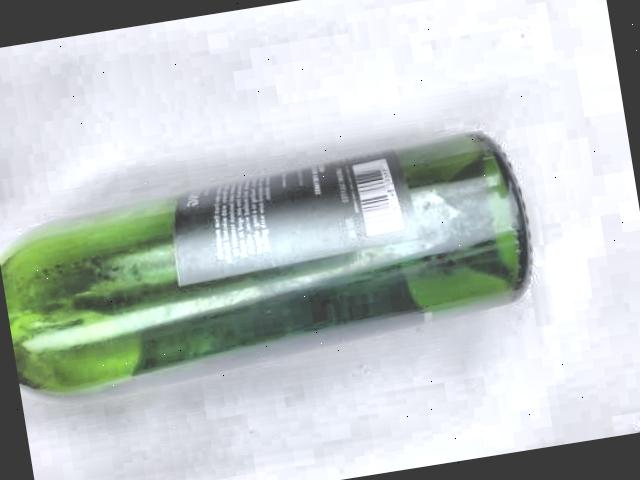Bottles: (0, 107, 560, 435)
